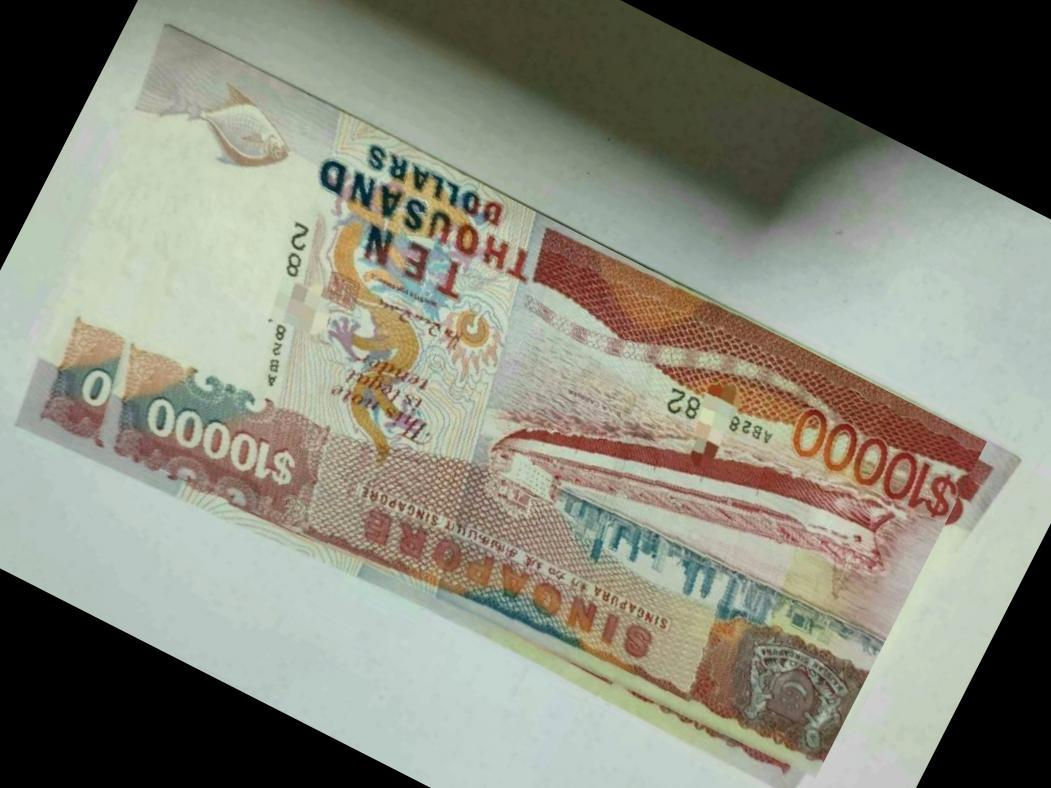10000SingaporeDollar: (24, 45, 985, 788)
